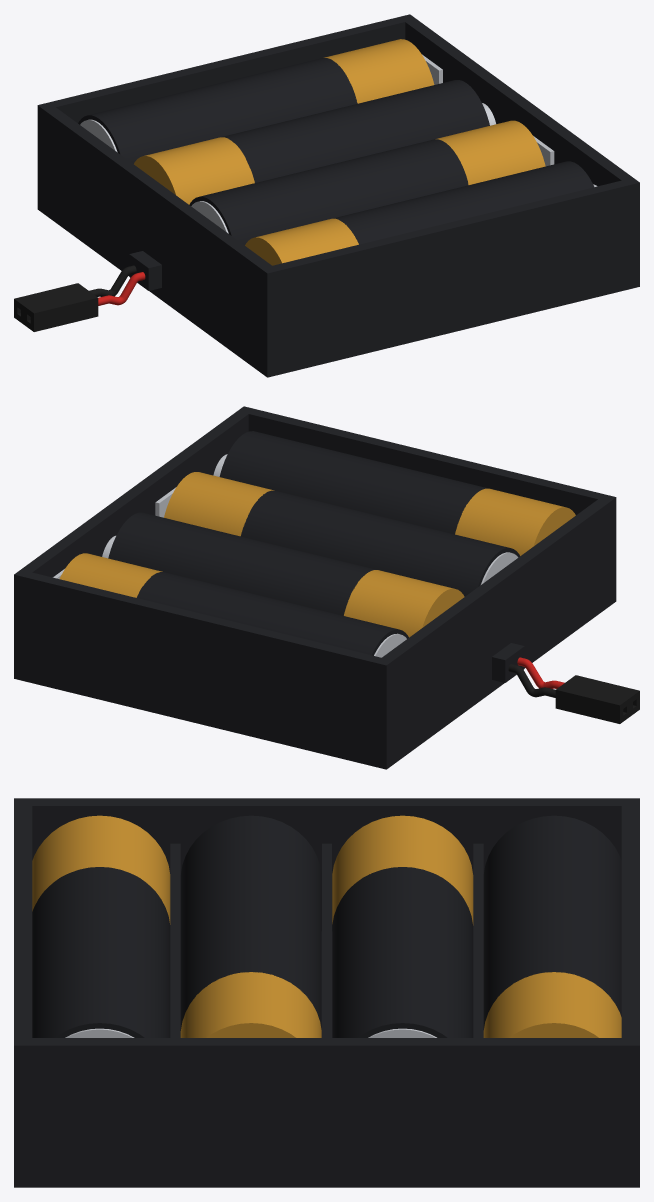
The model's file is battery-aa-4x.glb.
The picture shows the model from 3 angles, top to bottom: view 1: azimuth 30°, elevation 25°; view 2: azimuth 150°, elevation 25°; view 3: azimuth 270°, elevation 25°; orthographic projection. The views are drawn at different scales.
Bounding box in the file's own units: 0.078 × 0.0158 × 0.062.
